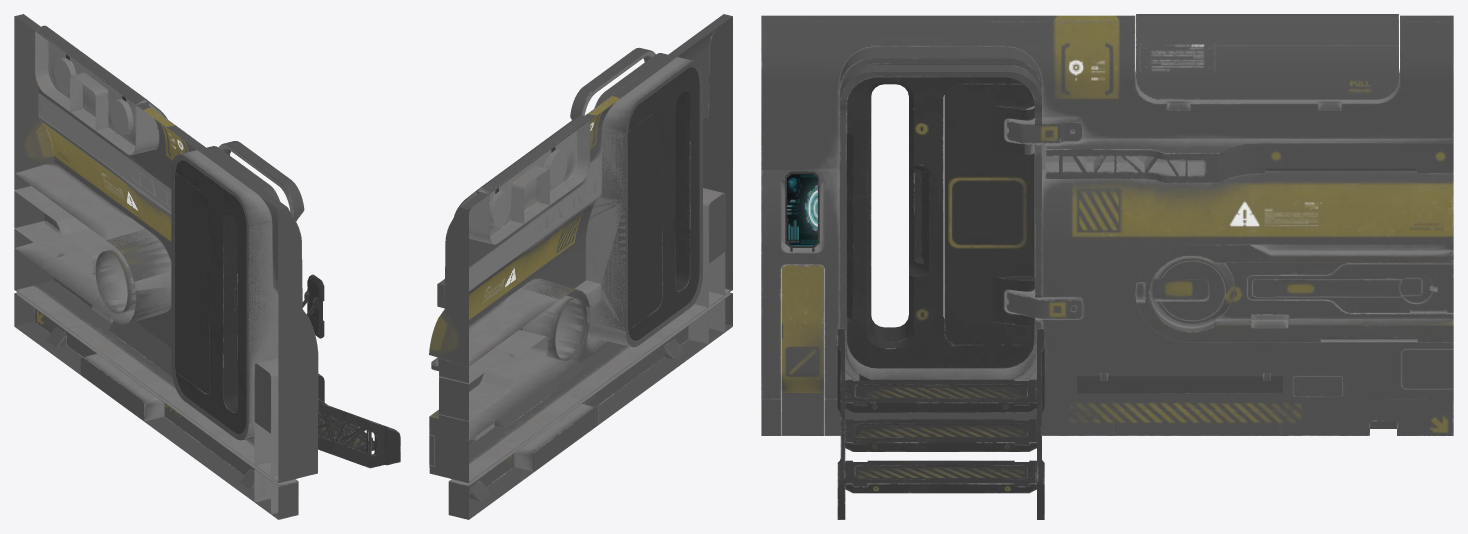
File: b009-opt.glb
3 renders of one model, left to right at view 1: azimuth 30°, elevation 25°; view 2: azimuth 150°, elevation 25°; view 3: azimuth 270°, elevation 25°, orthographic. The views are drawn at different scales.
Visible parts, largest first — view 1: Box.009; view 2: Box.009; view 3: Box.009.
Part boxes in pixels (box(x1,y1,x2,y2)): Box.009: box(14, 14, 400, 519); Box.009: box(429, 14, 732, 519); Box.009: box(761, 14, 1453, 519).
Bounding box in the file's own units: 1.53 × 2.98 × 4.53.
1 material, 1 textured.
